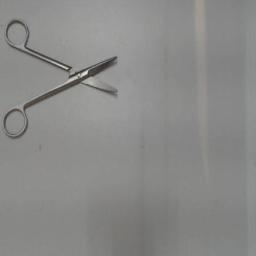Curved Mayo Scissors: (2, 16, 122, 142)
